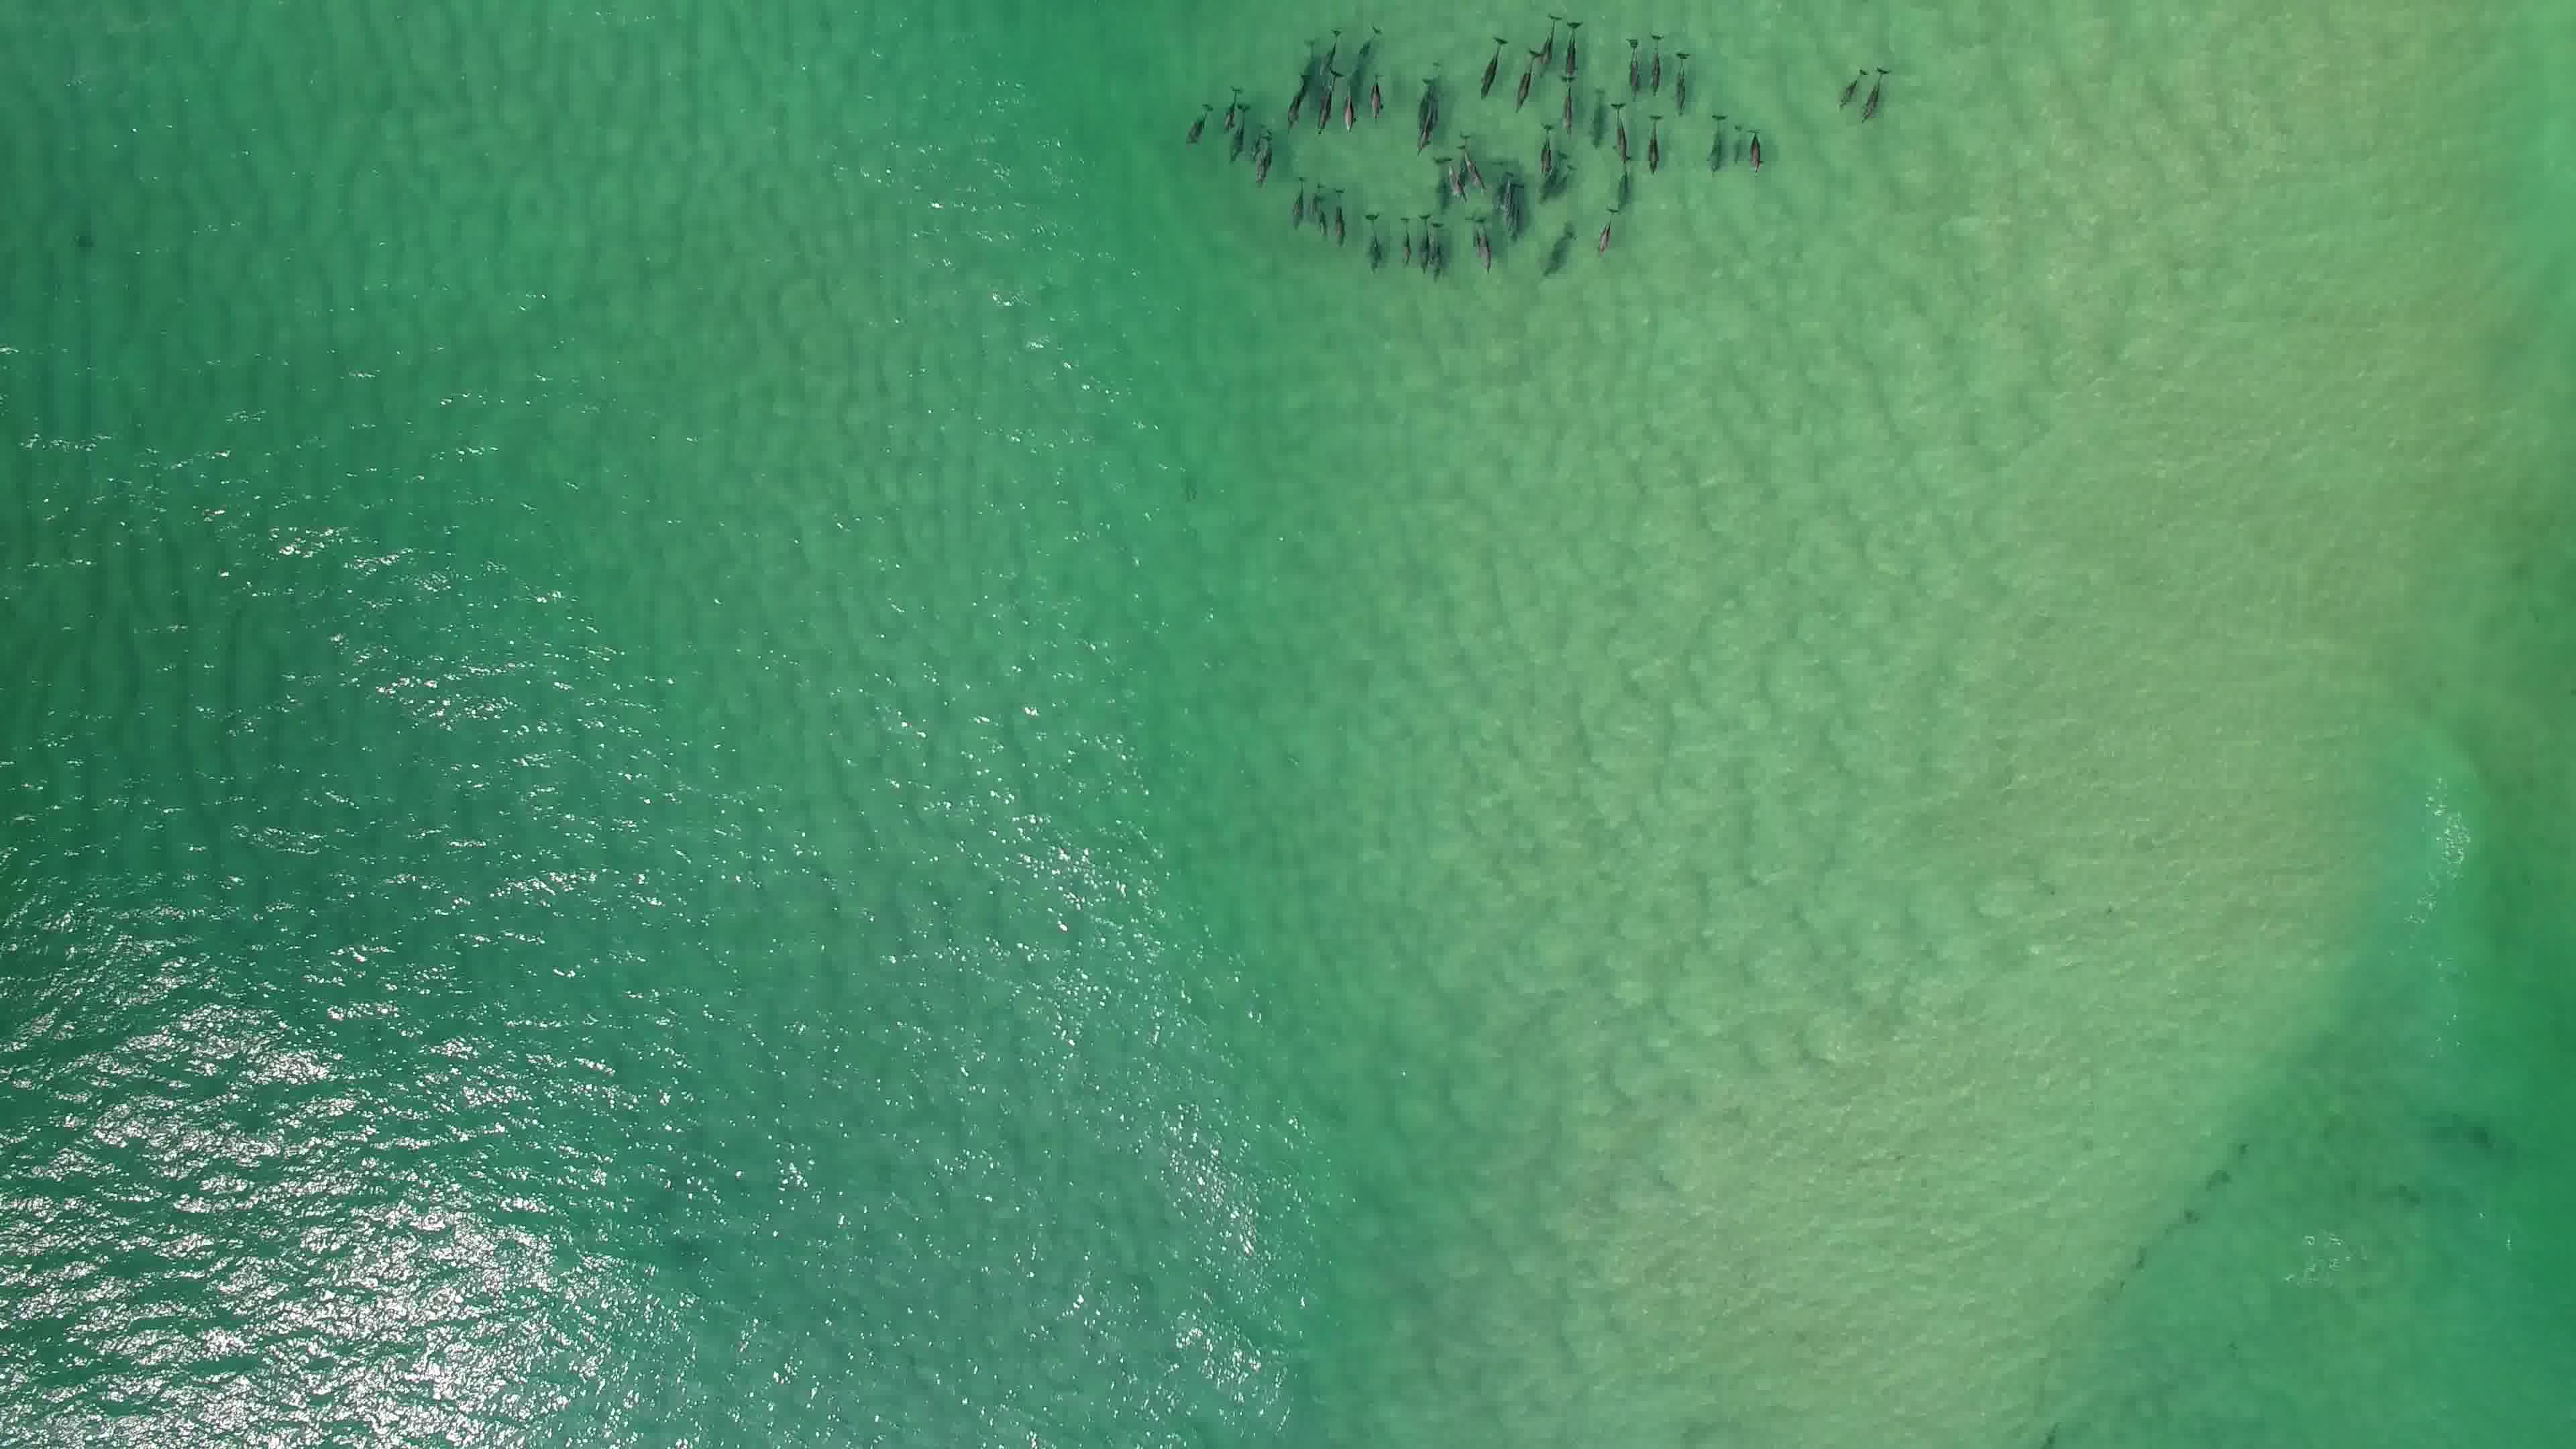dolphin: (1465, 25, 1513, 106), (1605, 92, 1651, 175), (1534, 214, 1582, 280), (1407, 73, 1447, 147), (1449, 127, 1493, 195), (1532, 110, 1568, 186), (1698, 108, 1736, 175), (1511, 42, 1545, 117), (1277, 65, 1318, 124), (1667, 44, 1697, 122), (1557, 14, 1587, 92), (1638, 28, 1672, 97), (1495, 166, 1529, 235), (1858, 60, 1890, 131), (1591, 198, 1622, 269), (1357, 207, 1389, 278), (1615, 28, 1645, 101), (1221, 99, 1253, 165), (1304, 166, 1330, 244), (1440, 152, 1472, 214), (1175, 97, 1210, 152), (1281, 170, 1311, 234), (1640, 110, 1665, 186), (1585, 80, 1612, 150), (1828, 64, 1867, 111), (1536, 11, 1562, 78), (1361, 67, 1392, 122), (1251, 120, 1276, 189), (1741, 124, 1771, 180), (1414, 203, 1435, 281), (1474, 211, 1497, 278), (1313, 73, 1336, 136), (1336, 80, 1362, 134), (1330, 184, 1352, 251), (1214, 78, 1238, 133), (1394, 209, 1417, 267), (1428, 214, 1445, 280), (1242, 115, 1263, 166), (1463, 211, 1483, 257)
